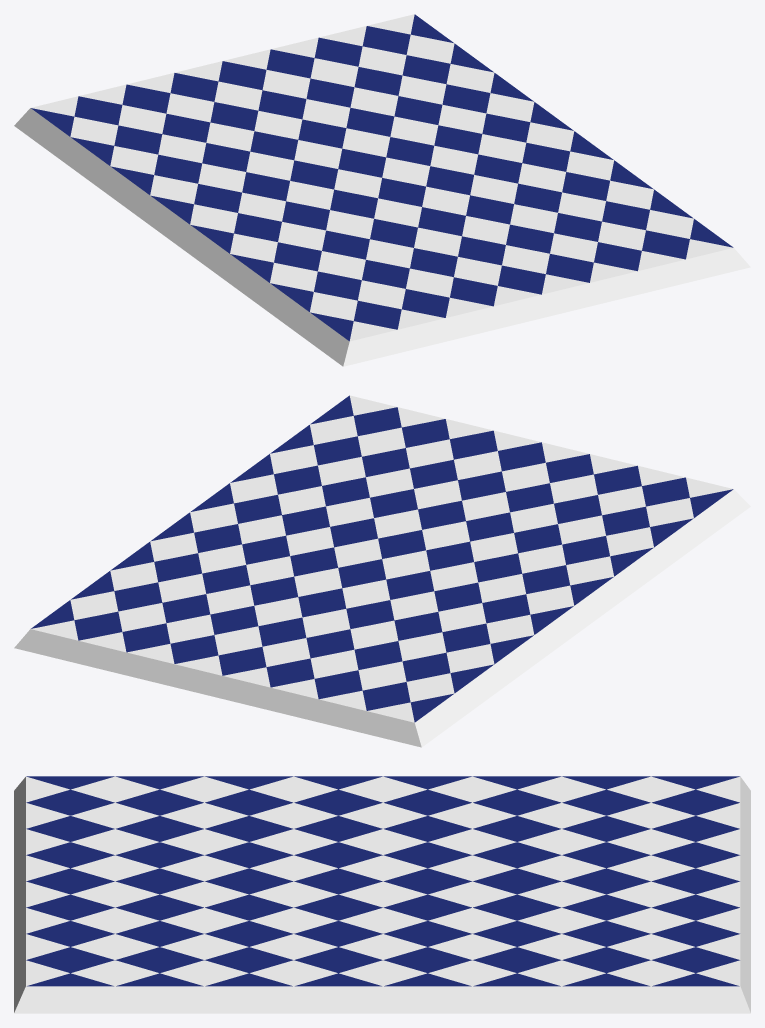
File: cardclubs02.gltf
The picture shows the model from 3 angles, top to bottom: view 1: azimuth 30°, elevation 25°; view 2: azimuth 150°, elevation 25°; view 3: azimuth 270°, elevation 25°; orthographic projection. The views are drawn at different scales.
Visible parts, largest first — view 1: Cube; view 2: Cube; view 3: Cube.
Boxes of the visible parts, x1,y1,x2,y2 form: Cube: (14,14,750,366); Cube: (14,395,750,747); Cube: (14,776,750,1013).
Bounding box in the file's own units: 0.0635 × 0.00307 × 0.0888.
1 material, 1 textured.
